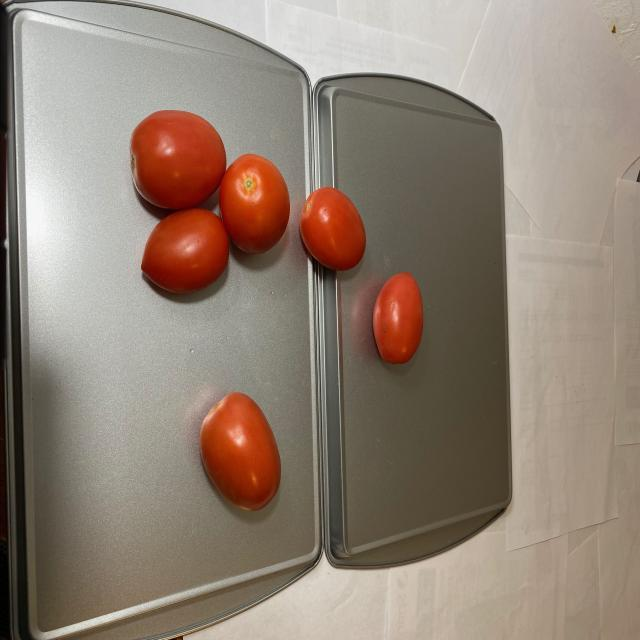tomato: (124, 112, 293, 299), (296, 185, 426, 369), (197, 392, 284, 520)
